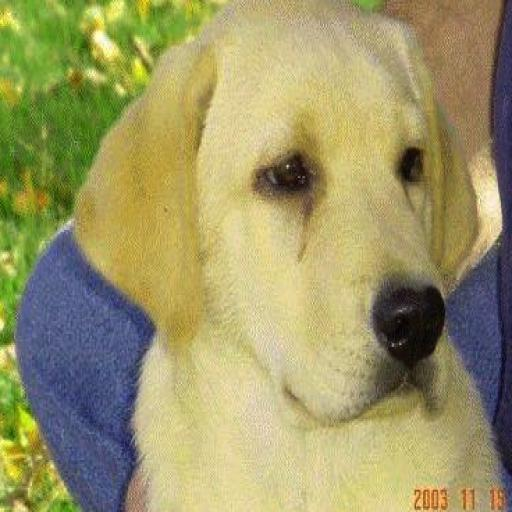dog_face: (88, 2, 474, 447)
